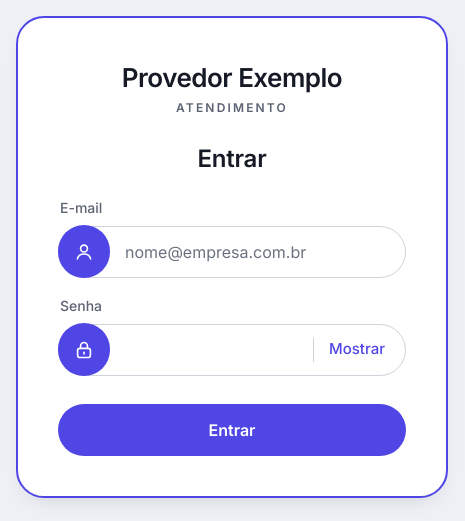
Test: LoginPage: campos › Mostrar e Ocultar alternam a senha sem enviar o formulário
Type "senha-ficticia" into the password field labelled "Senha" at [219, 350], box top-left (125, 325), bottom-right (313, 375)
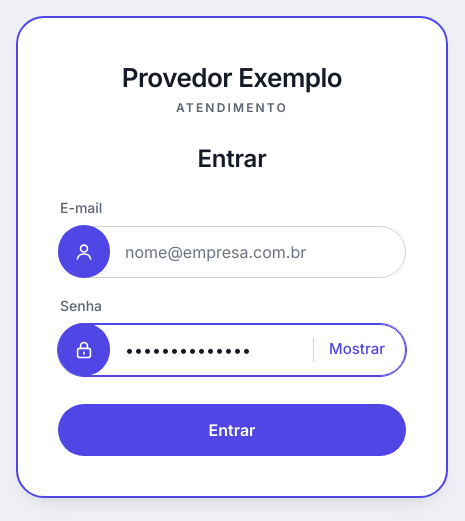
Click the button "Mostrar" at [359, 350], box top-left (313, 325), bottom-right (405, 375)
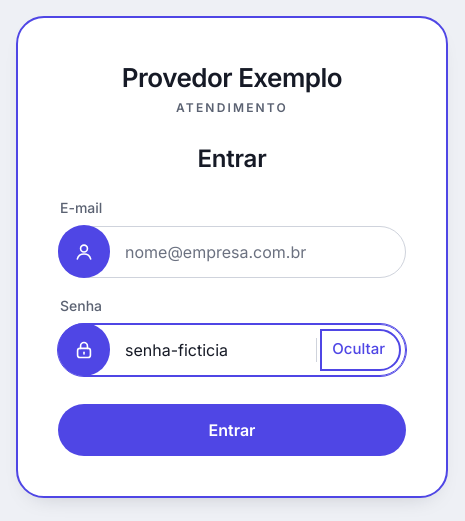
Expected: the field labelled "Senha" shows its text, top-left (125, 325), bottom-right (316, 375)
Expected: the button named "Ocultar senha" reads "Ocultar"
Click the button named "Ocultar senha" at [361, 350], box top-left (316, 325), bottom-right (405, 375)
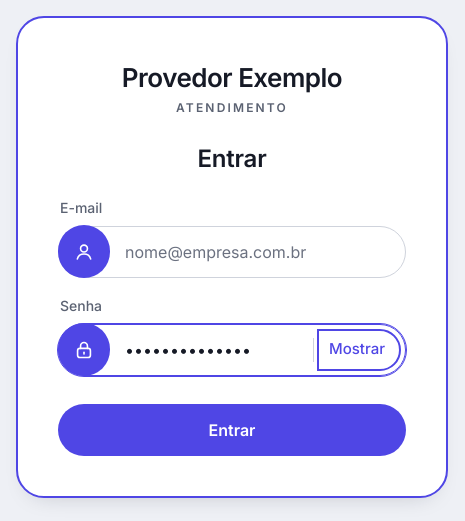
Expected: the password field labelled "Senha" hides its text, top-left (125, 325), bottom-right (313, 375)
